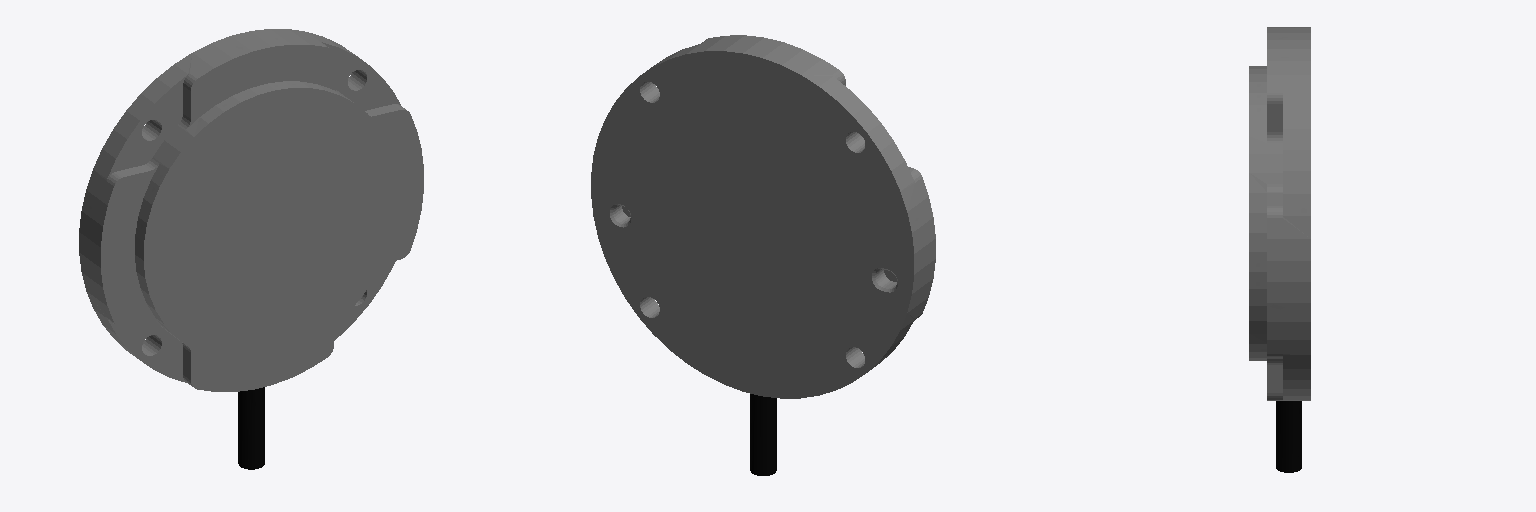
3 renders of one model, left to right at view 1: azimuth 30°, elevation 25°; view 2: azimuth 150°, elevation 25°; view 3: azimuth 270°, elevation 25°, orthographic.
Bounding box in the file's own units: 0.1467 × 0.1834 × 0.024.
Materials: 1 (1 with a texture image).